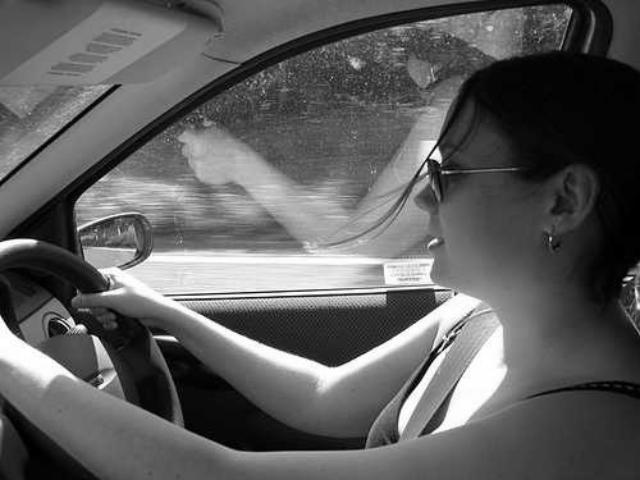Seatbelt: (392, 296, 508, 452)
